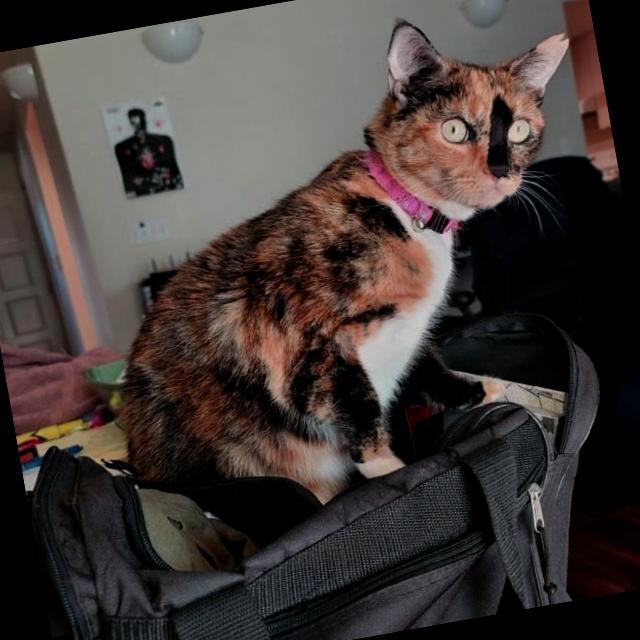calico_cat: (286, 0, 619, 284)
